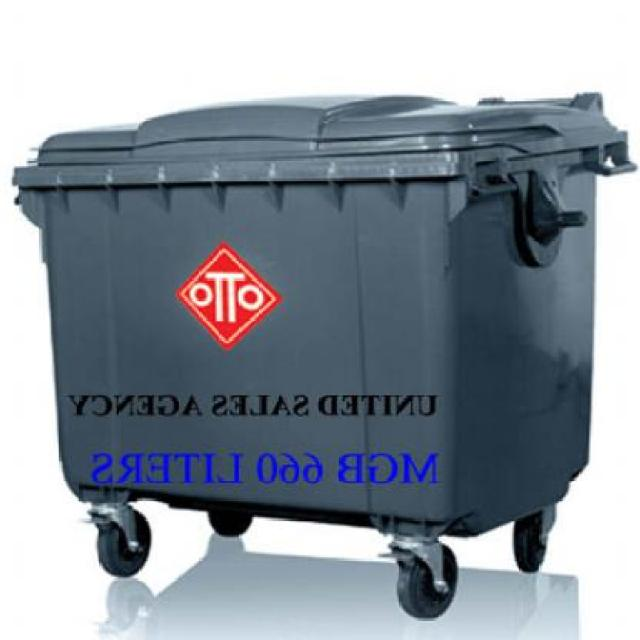garbage container: (6, 83, 640, 628)
